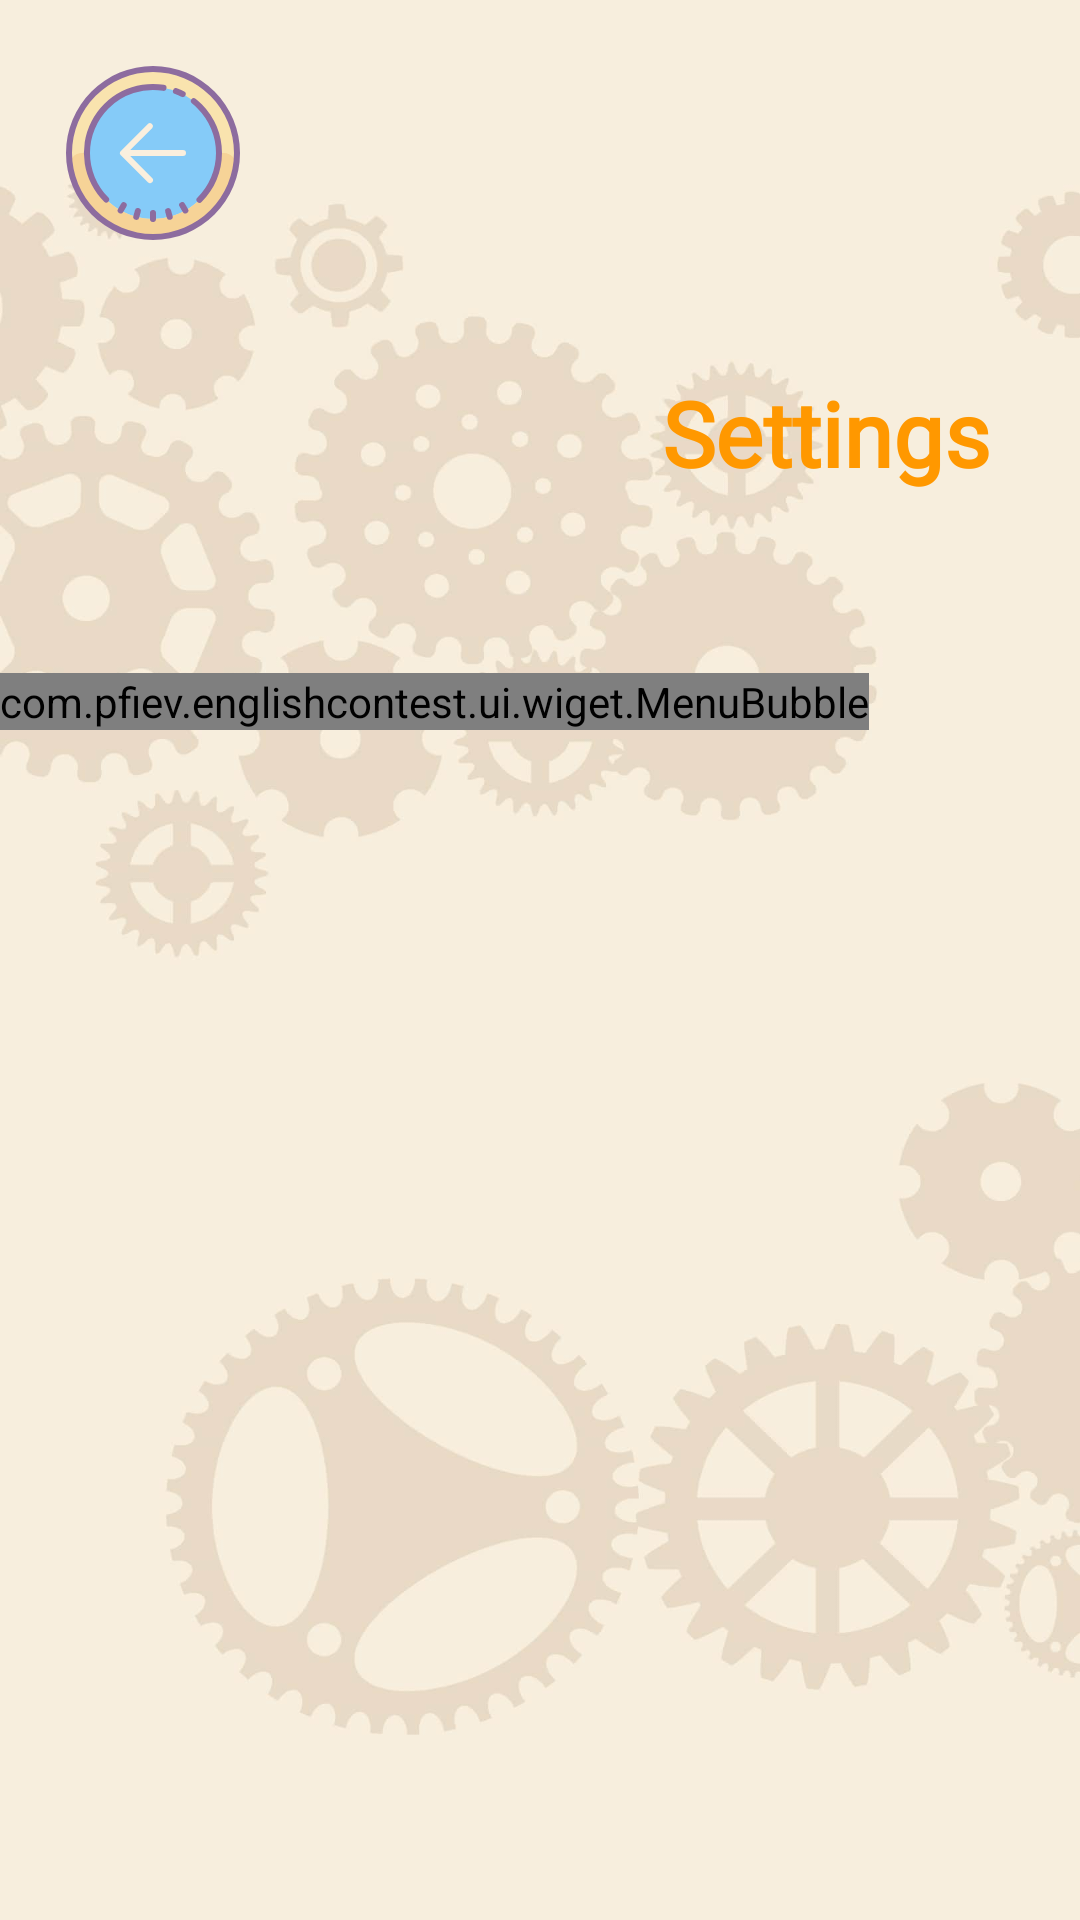

Named icons in this screenshot (1080x1920) and their centers, (x=x, y=y):
Back to main: (x=153, y=153)
